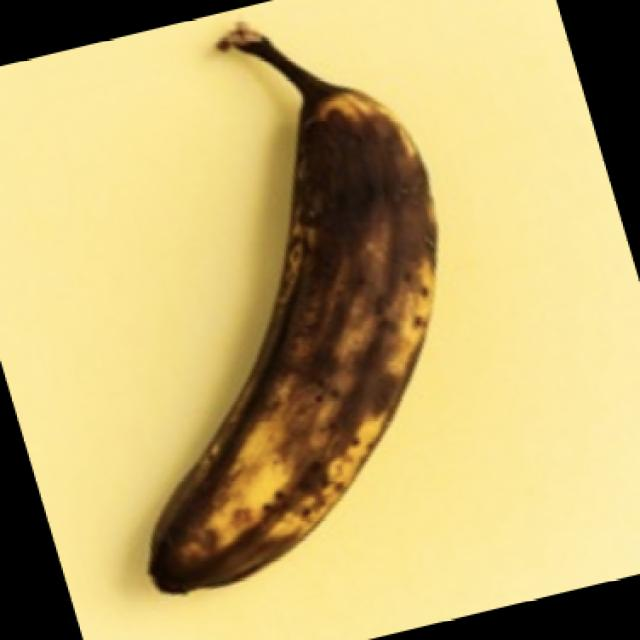overripe: (140, 35, 445, 598)
